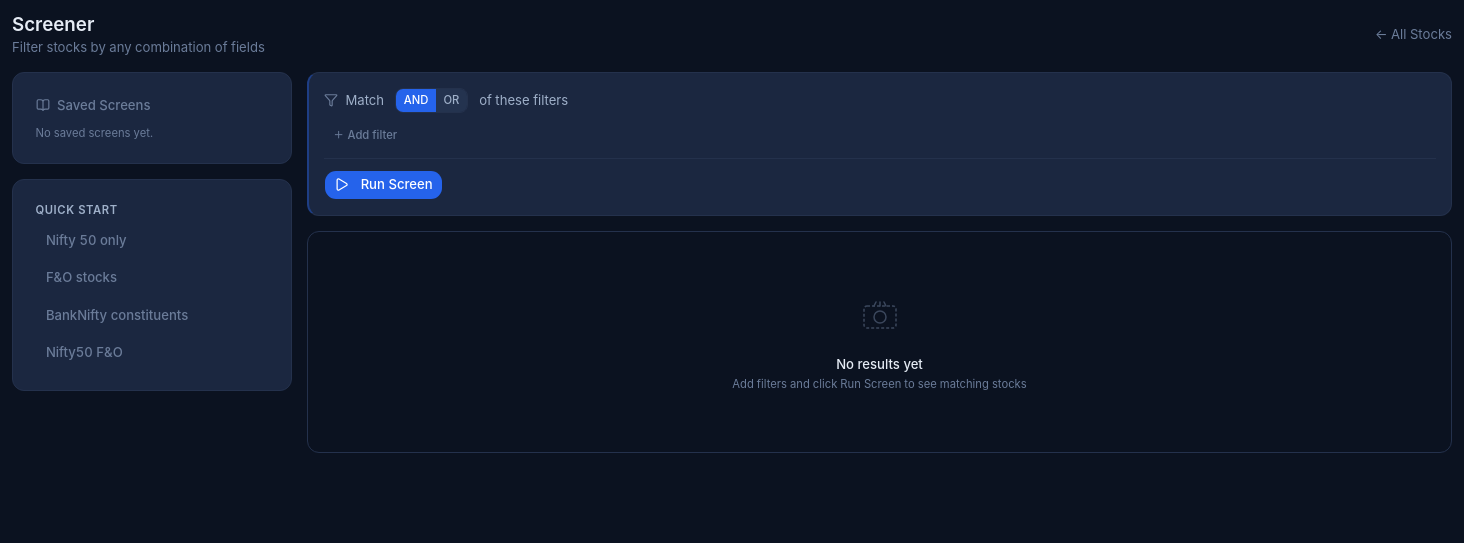
it: ScreenerPage › shows empty result message when no stocks match
Click the button "Run Screen" at (383, 185), box [324,170,443,200]
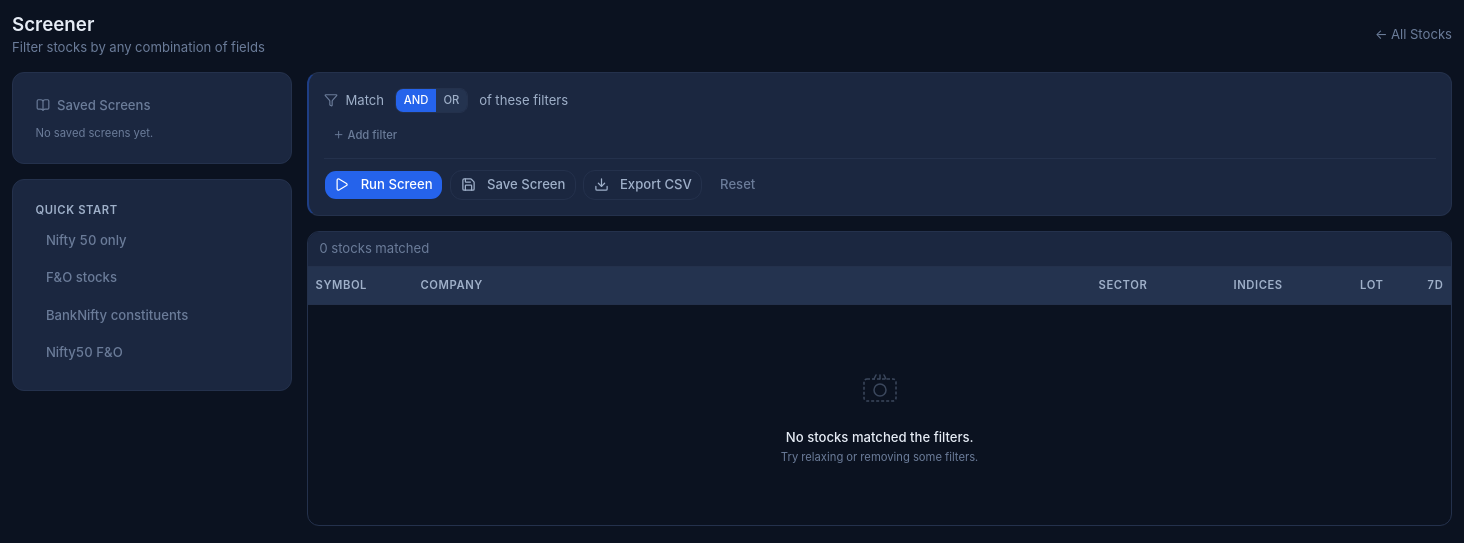
Now the text "No stocks matched the filters." is shown, box [786,428,973,446]
